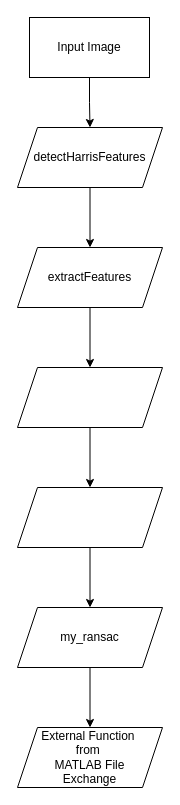
Image size: 180x805. Some labels were removed from this diagram. The shapes that lost their labels are listed below. From the top down, each one's box as (x1, y1, x2, y2) in pixels, then its label:
(16, 366, 162, 428): matchFeatures
(16, 486, 162, 548): vtpts
